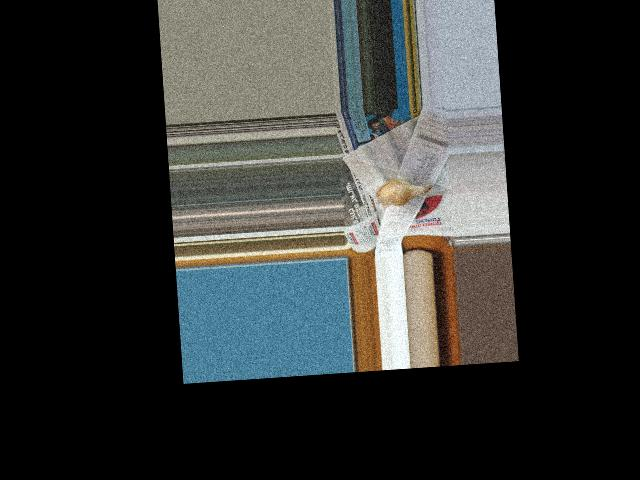onion: (376, 177, 426, 204)
